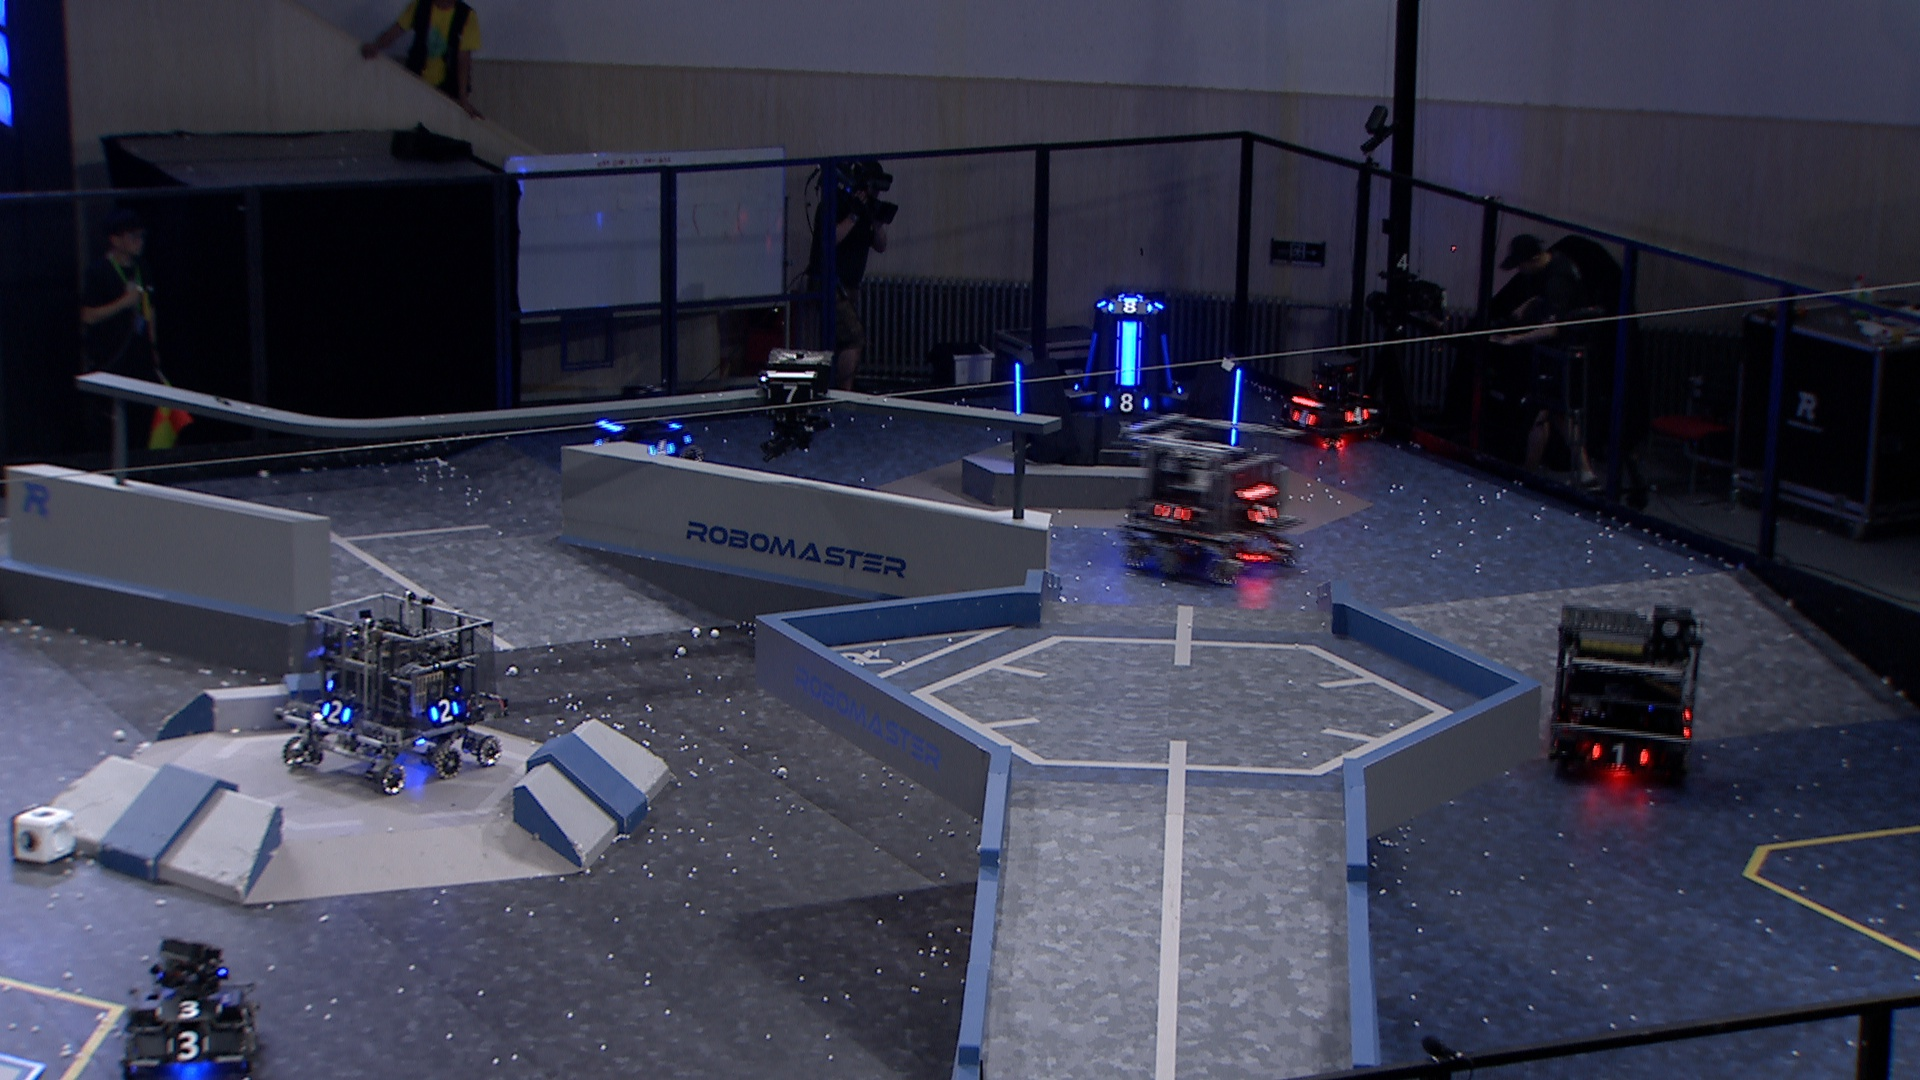armor: (1114, 319, 1145, 389), (150, 997, 225, 1021), (1590, 741, 1652, 769), (164, 1029, 212, 1060), (1077, 330, 1102, 389), (1149, 498, 1192, 527), (764, 384, 816, 407), (1228, 368, 1244, 447), (1100, 392, 1153, 413), (318, 699, 353, 728), (1106, 295, 1155, 316), (1158, 330, 1176, 385), (429, 698, 462, 727), (1247, 500, 1278, 527), (647, 436, 679, 462), (1011, 361, 1025, 417), (1290, 405, 1317, 431), (1344, 404, 1367, 427)
base: (1005, 290, 1251, 471)
car: (273, 588, 513, 798), (1120, 407, 1304, 589), (1542, 593, 1705, 790), (116, 935, 269, 1080), (584, 382, 707, 475), (1273, 357, 1385, 444)
watcher: (760, 347, 840, 463)
